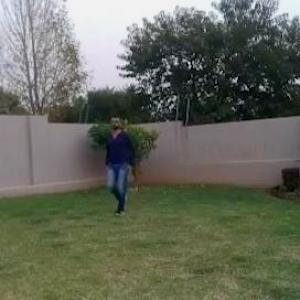follow: (102, 114, 136, 222)
